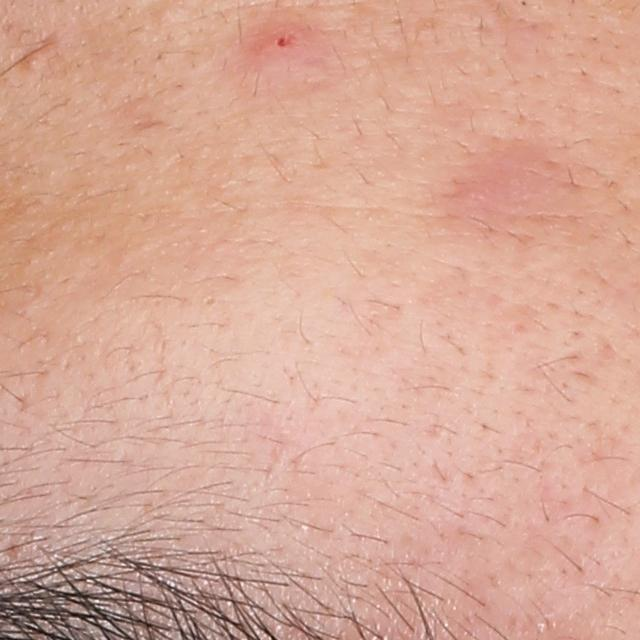papule: (256, 19, 309, 71)
